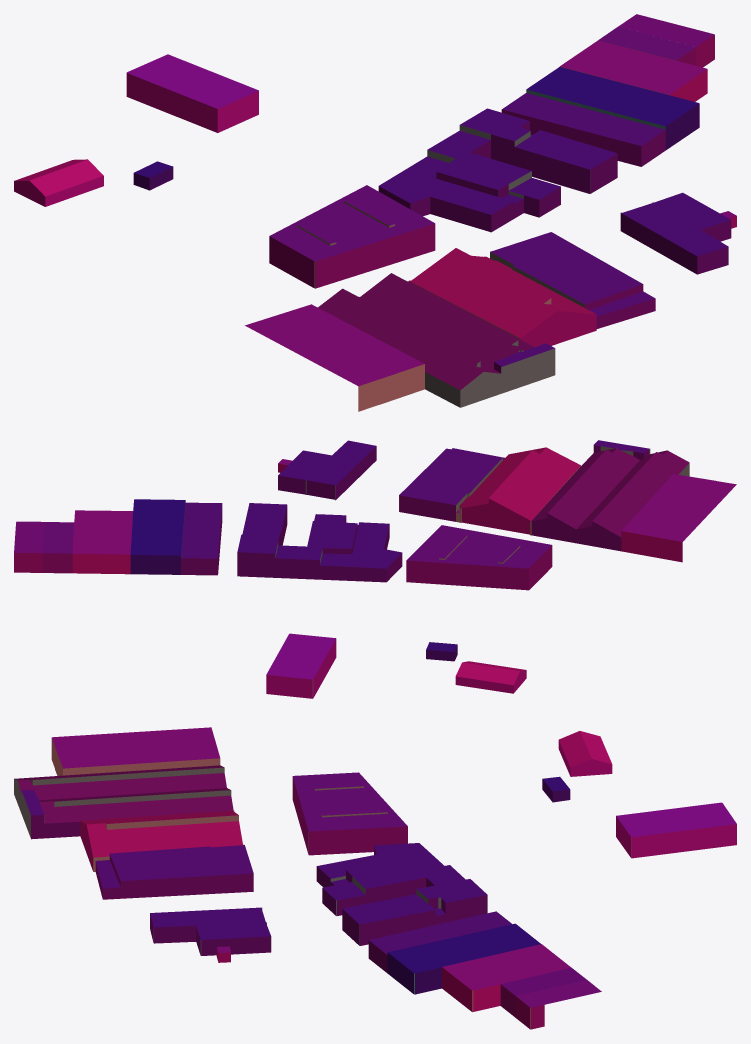
The model's file is buildings_11_5.glb.
3 views of the same model, one above another, from view 1: azimuth 30°, elevation 25°; view 2: azimuth 150°, elevation 25°; view 3: azimuth 270°, elevation 25° (orthographic). The views are drawn at different scales.
Visible parts, largest first — view 1: buildings_11_5; view 2: buildings_11_5; view 3: buildings_11_5.
Boxes of the visible parts, left/top/right/bottom form: buildings_11_5: left=14, top=14, right=736, bottom=411; buildings_11_5: left=14, top=440, right=736, bottom=698; buildings_11_5: left=14, top=727, right=736, bottom=1029.
Size of the model in its own units: 204 by 10.73 by 220.
